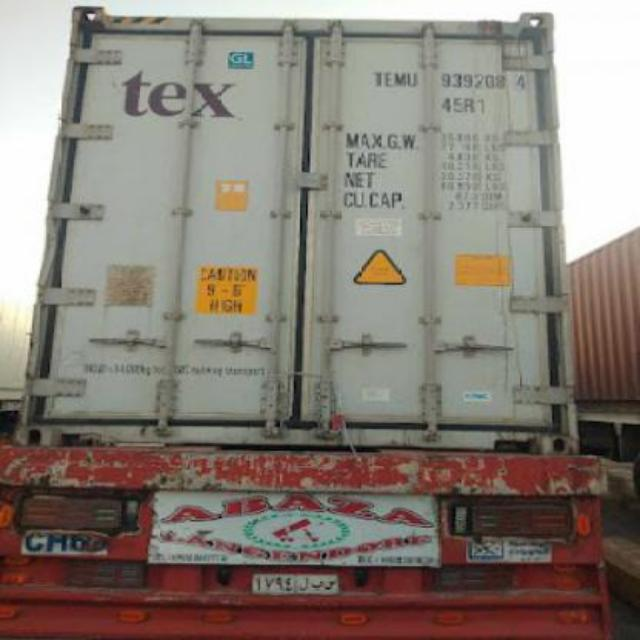0: (484, 64, 496, 92)
2: (472, 70, 484, 90)
3: (448, 66, 460, 90)
4: (512, 69, 528, 87)
8: (494, 70, 508, 90)
9: (461, 68, 474, 88), (440, 68, 450, 90)
E: (382, 66, 394, 88)
M: (394, 66, 408, 90)
T: (370, 64, 382, 88)
U: (406, 68, 418, 88)
